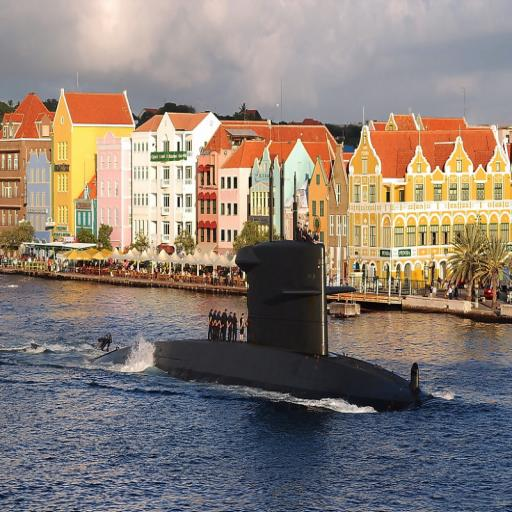submarine: (94, 240, 437, 415)
